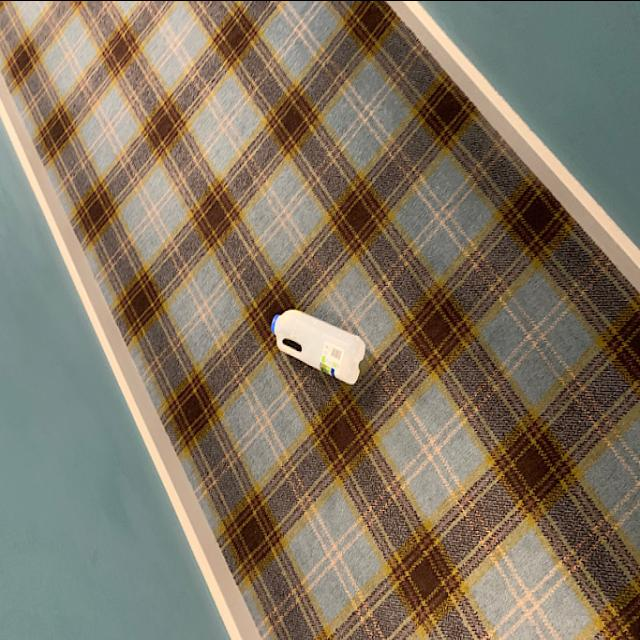HDPEM: (272, 306, 368, 384)
